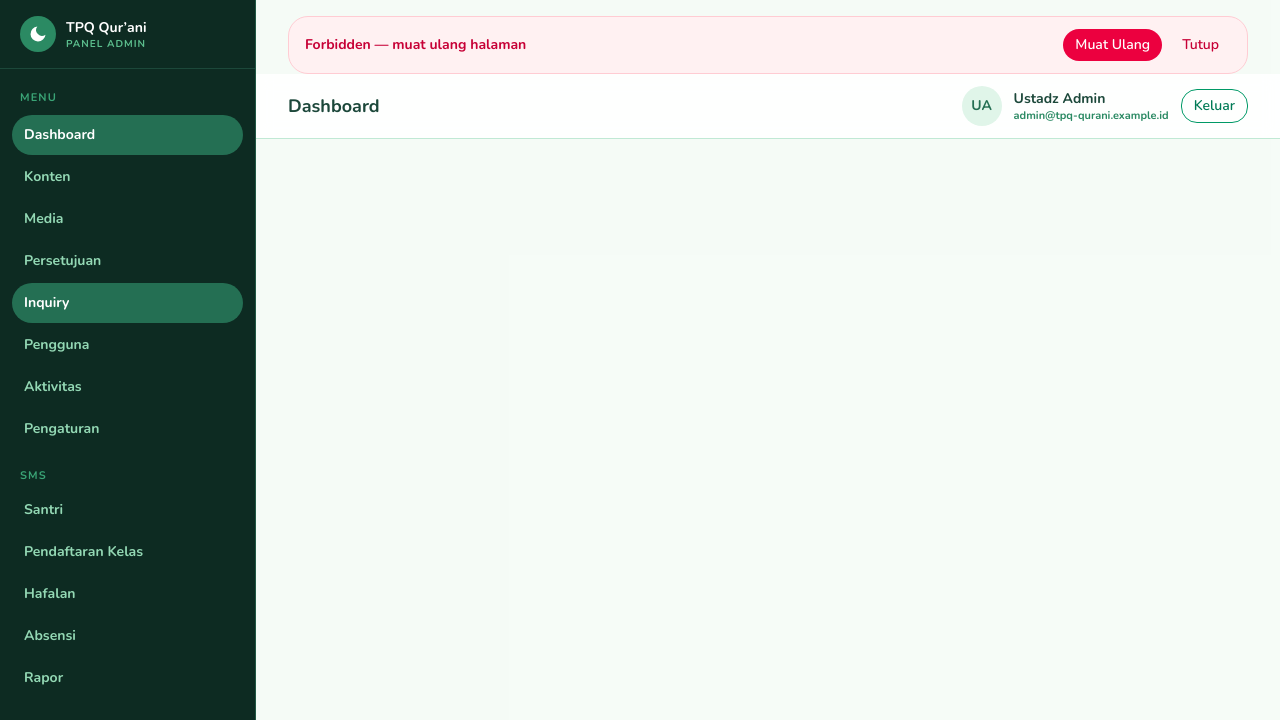
Test: CSRF 403 UX › shows the Forbidden banner with a reload button when adminFetch returns 403
This screenshot has width=1280, height=720.
Expected: the text "Forbidden — muat ulang halaman" is shown, left=305, top=35, right=526, bottom=55
Click the button "Muat Ulang": click(1113, 45) left=1063, top=29, right=1162, bottom=61
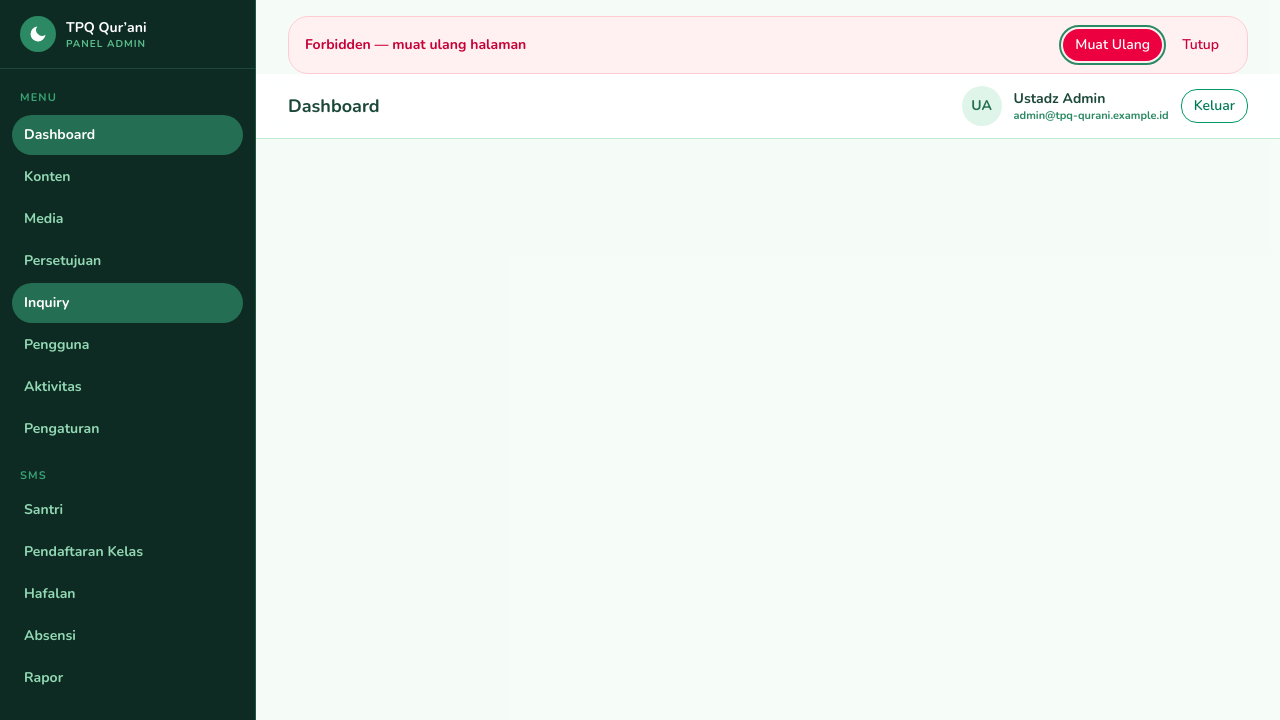
Click the button "Tutup": click(1201, 45) left=1170, top=29, right=1231, bottom=61
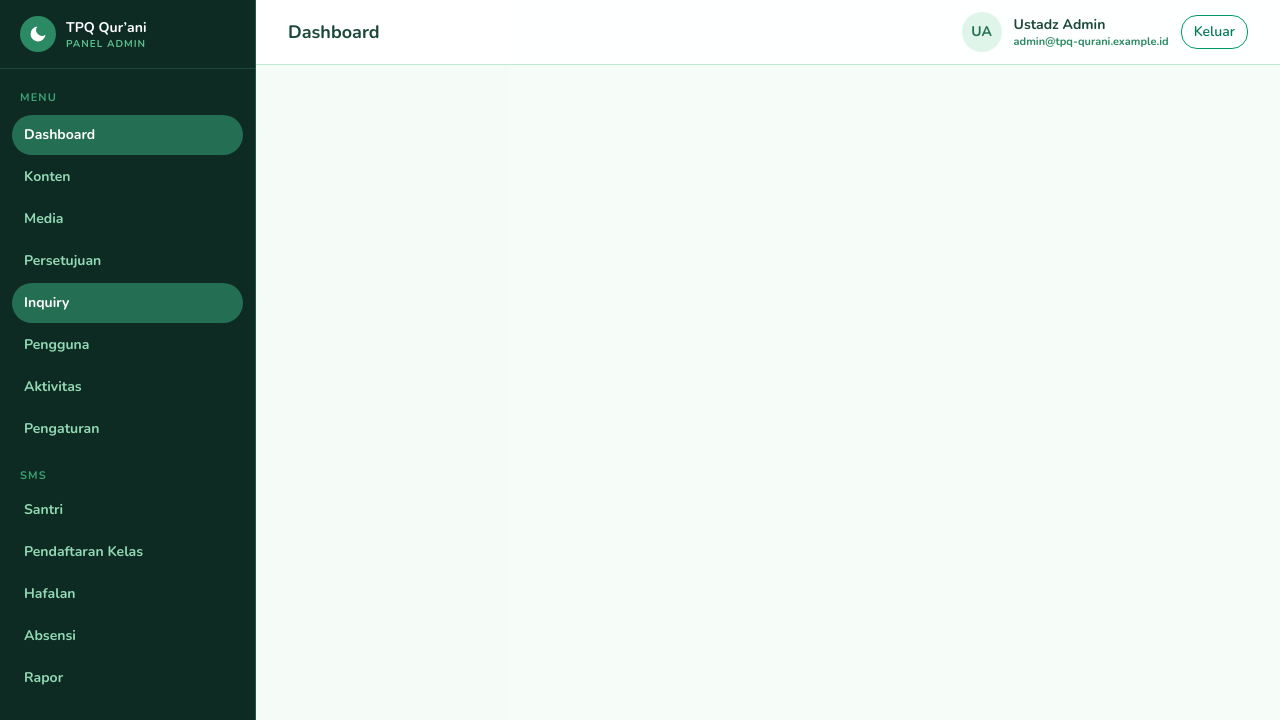
Expected: the text "Forbidden — muat ulang halaman" is gone
